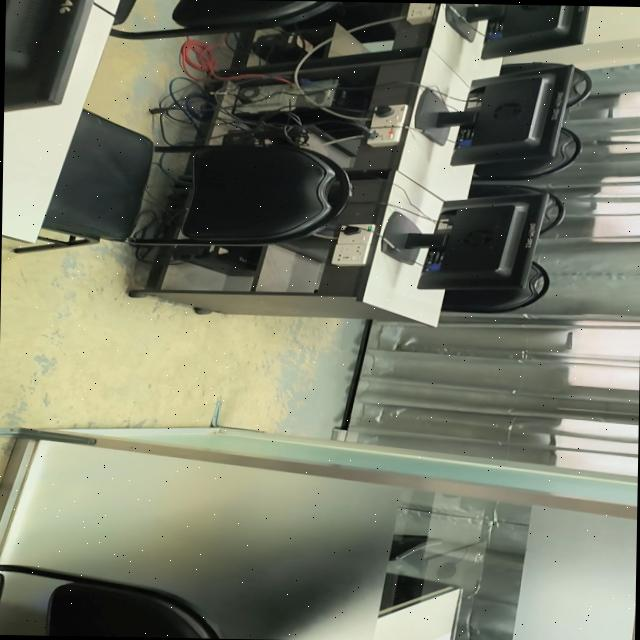Chair: (14, 108, 350, 252), (46, 580, 218, 638), (110, 0, 339, 38), (473, 126, 582, 180), (442, 261, 549, 311), (469, 182, 565, 231), (566, 66, 592, 112), (500, 61, 562, 74)
Cpu: (238, 78, 337, 111)
Monitor: (381, 190, 549, 288), (415, 64, 574, 164), (4, 0, 93, 110), (466, 3, 589, 57)
